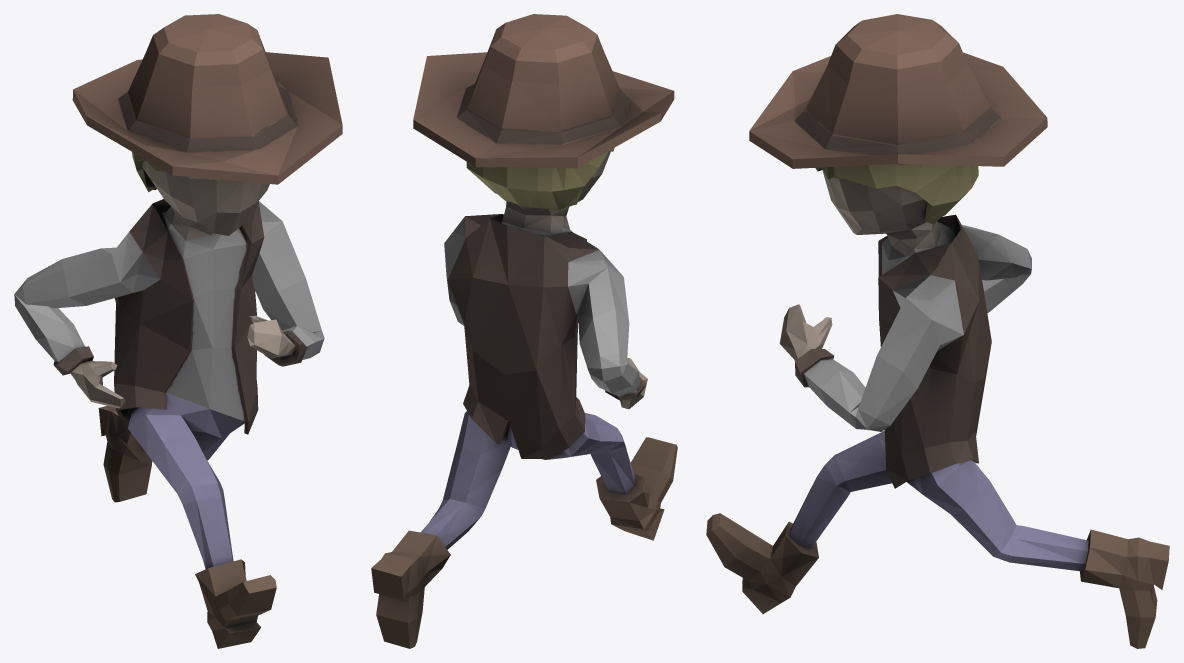
The model's file is char_9.obj.
3 renders of one model, left to right at view 1: azimuth 30°, elevation 25°; view 2: azimuth 150°, elevation 25°; view 3: azimuth 270°, elevation 25°, orthographic. The views are drawn at different scales.
Visible parts, largest first — view 1: Cube; view 2: Cube; view 3: Cube.
Boxes of the visible parts, x1=… form: Cube: x1=14, y1=14, x2=342, y2=648; Cube: x1=371, y1=14, x2=677, y2=648; Cube: x1=706, y1=14, x2=1169, y2=648.
Bounding box in the file's own units: 3.72 × 7.75 × 5.47.
Materials: 1 (1 with a texture image).
